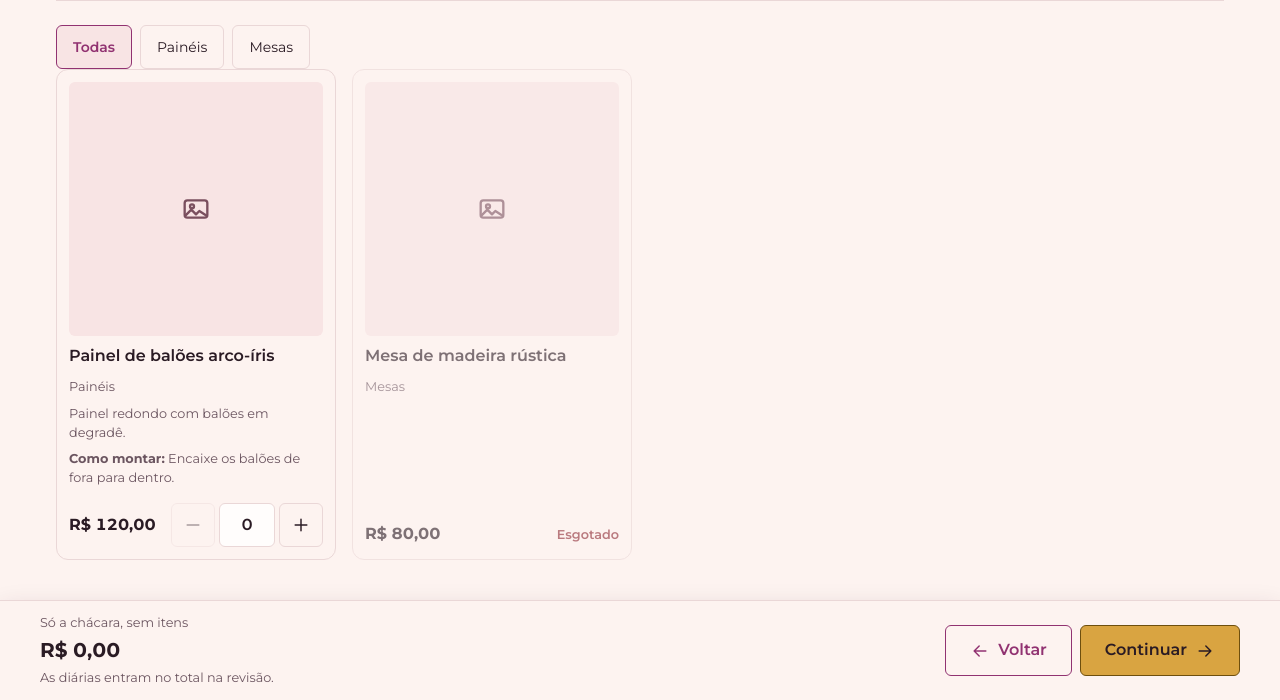
BookingWizard, passo de itens › não deixa passar do estoque do item
The width and height of the screenshot is (1280, 700).
(page scrolled)
Expected: the text "Painel de balões arco-íris" is shown, [69, 346, 274, 366]
Click the button named "Aumentar Painel de balões arco-íris": (301, 525) [279, 503, 323, 547]
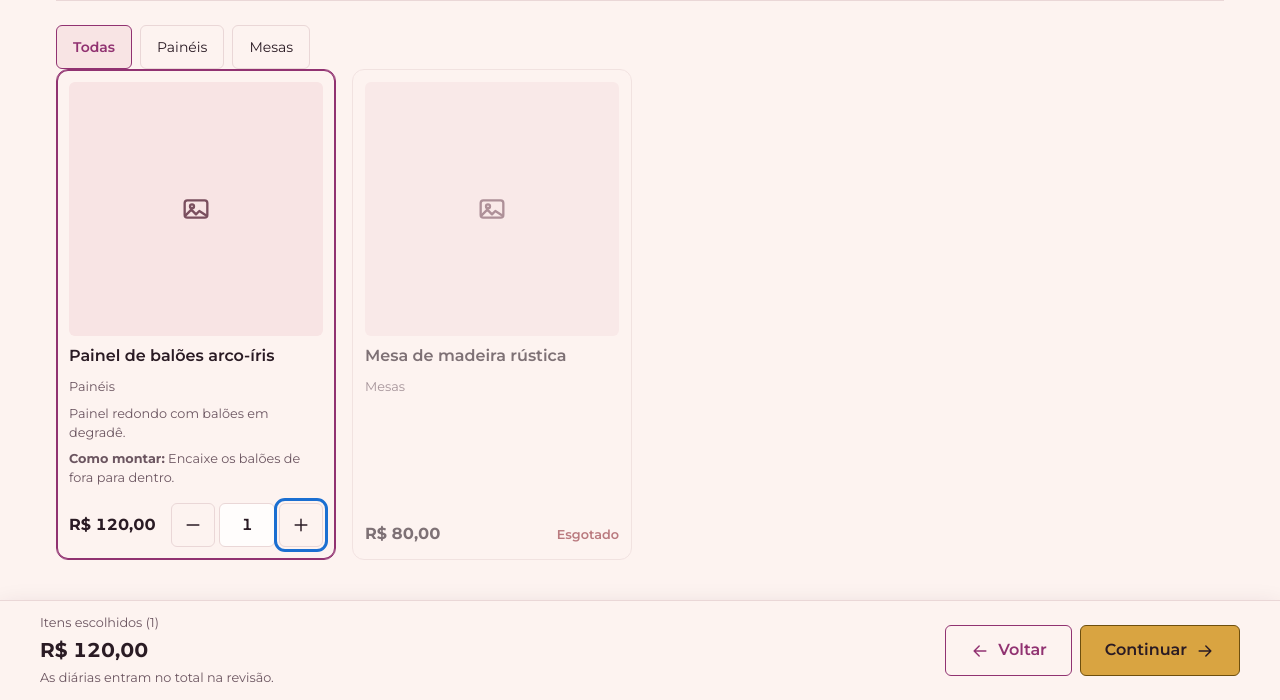
Click the button named "Aumentar Painel de balões arco-íris": (301, 525) [279, 503, 323, 547]
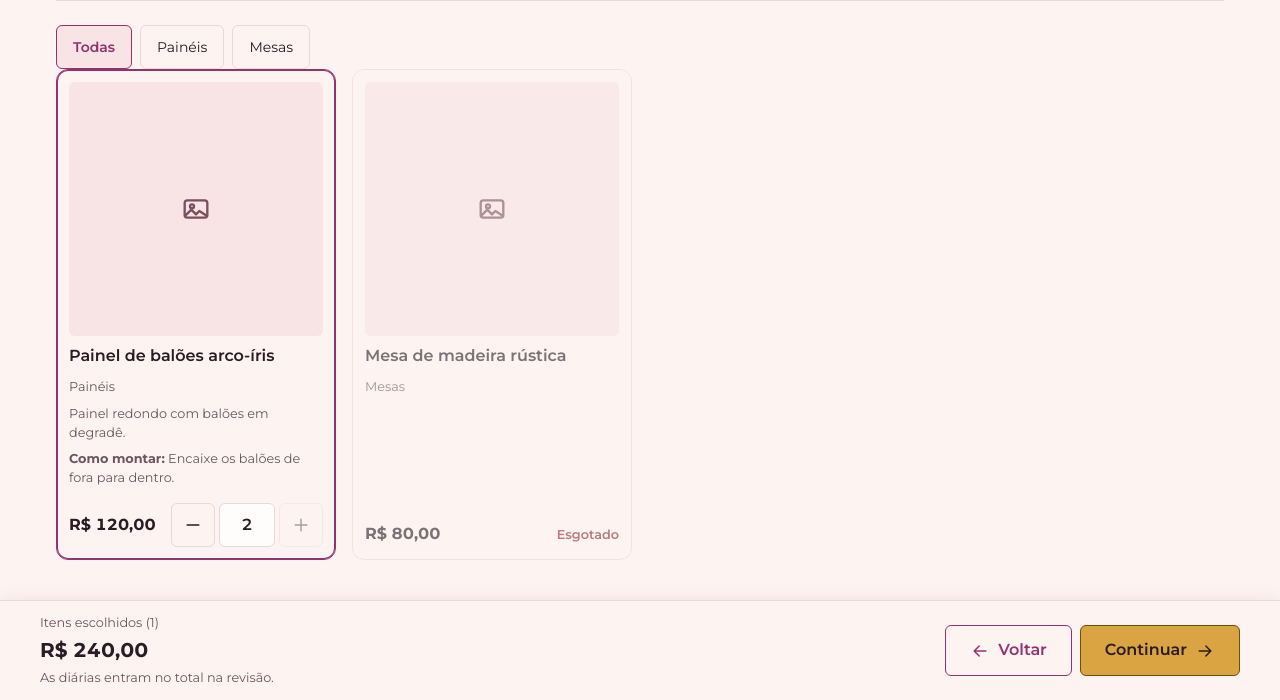
Now the button named "Aumentar Painel de balões arco-íris" is disabled, box [279, 503, 323, 547]
